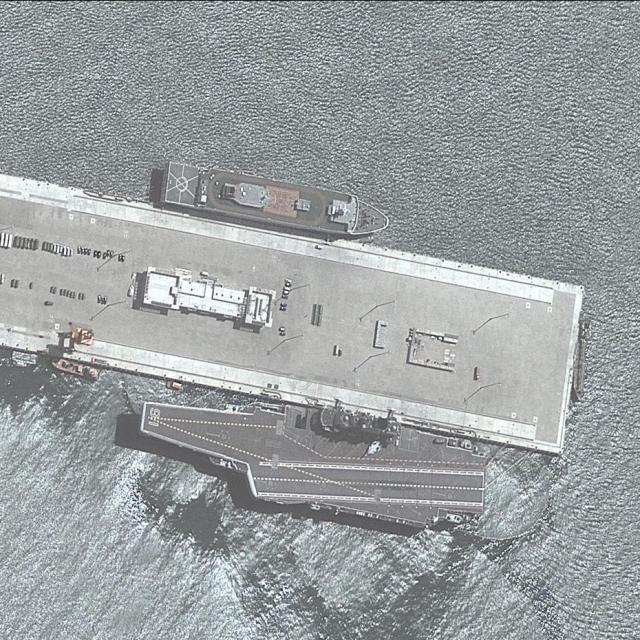Aircraft Carrier: (127, 368, 498, 543)
Other Warship: (160, 160, 396, 241)
